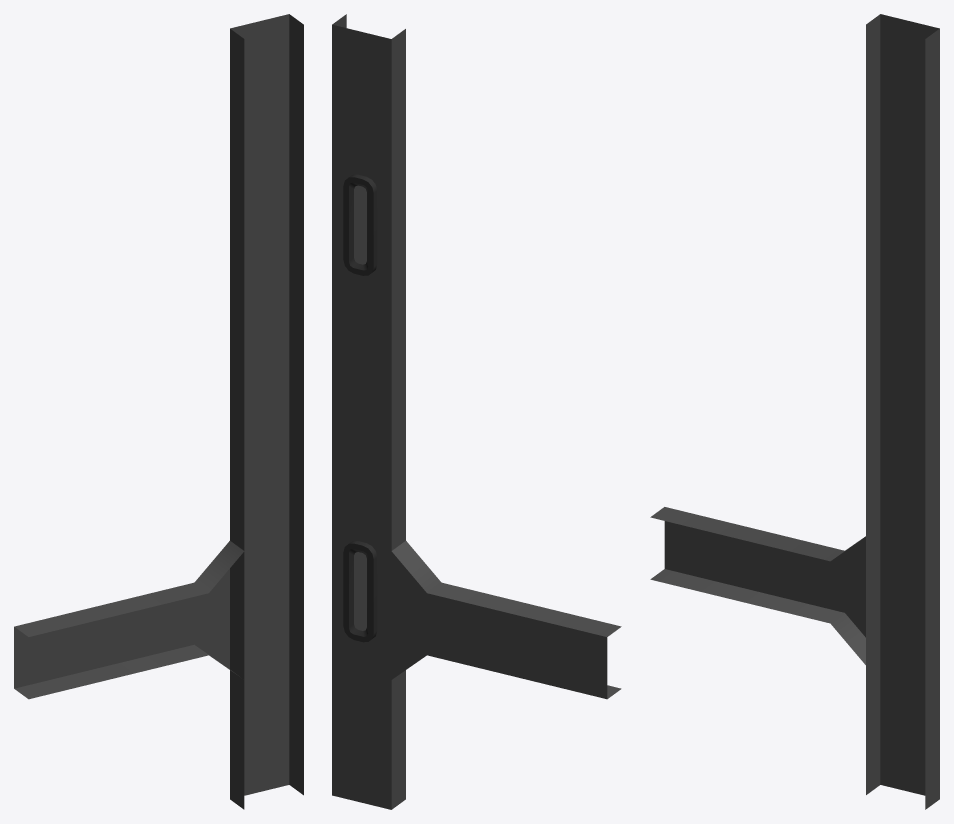
Rendered from SM_cable_right_01.fbx.
The picture shows the model from 3 angles, left to right: view 1: azimuth 30°, elevation 25°; view 2: azimuth 150°, elevation 25°; view 3: azimuth 330°, elevation 25°; orthographic projection.
Visible parts, largest first — view 1: SM_cable_right_01; view 2: SM_cable_right_01; view 3: SM_cable_right_01.
Part boxes in pixels (left/top/right/bottom): SM_cable_right_01: left=14, top=14, right=303, bottom=809; SM_cable_right_01: left=332, top=14, right=621, bottom=809; SM_cable_right_01: left=650, top=14, right=939, bottom=809.
Bounding box in the file's own units: 112 × 300 × 12.76.
2 materials, 2 textured.
